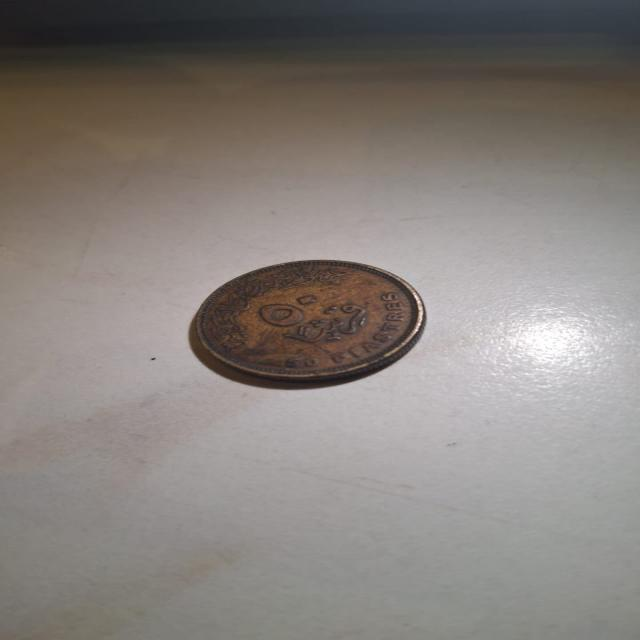Half Pound: (170, 249, 436, 400)
